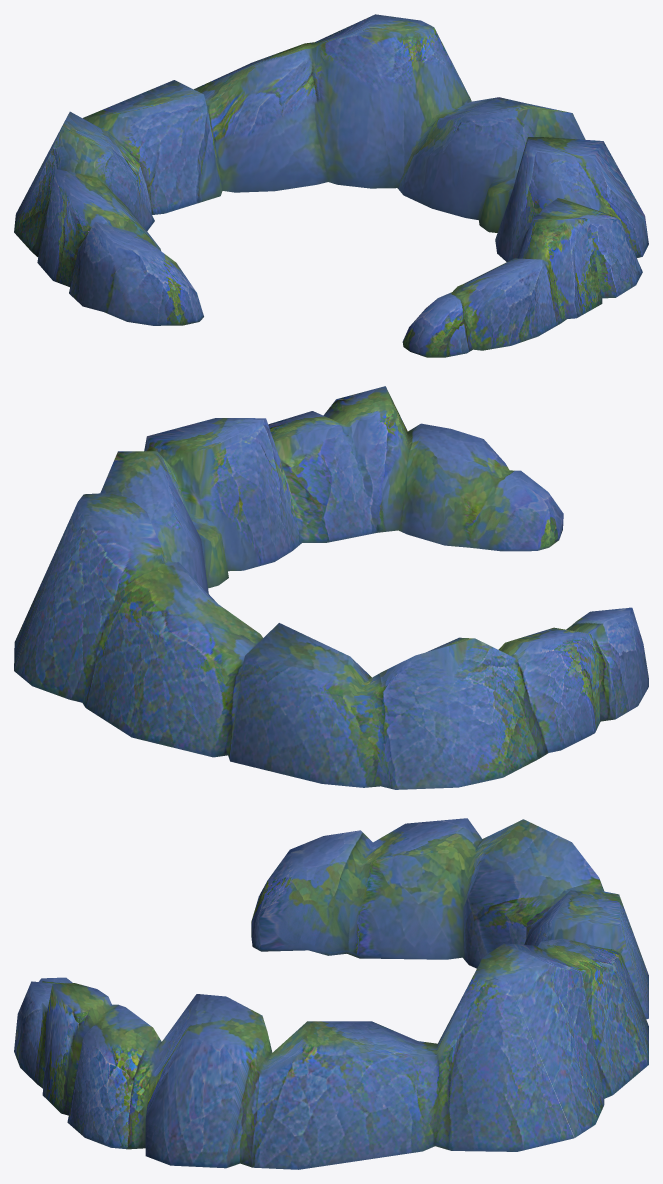
Rendered from rock_ring_mossy.glb.
3 renders of one model, top to bottom at view 1: azimuth 30°, elevation 25°; view 2: azimuth 150°, elevation 25°; view 3: azimuth 270°, elevation 25°, orthographic. The views are drawn at different scales.
Visible parts, largest first — view 1: tripo_node_89ea50b6-dd42-4bf1-af38-ec4dd53a9c59; view 2: tripo_node_89ea50b6-dd42-4bf1-af38-ec4dd53a9c59; view 3: tripo_node_89ea50b6-dd42-4bf1-af38-ec4dd53a9c59.
Boxes of the visible parts, left/top/right/bottom form: tripo_node_89ea50b6-dd42-4bf1-af38-ec4dd53a9c59: left=14, top=14, right=648, bottom=357; tripo_node_89ea50b6-dd42-4bf1-af38-ec4dd53a9c59: left=14, top=386, right=648, bottom=789; tripo_node_89ea50b6-dd42-4bf1-af38-ec4dd53a9c59: left=14, top=818, right=648, bottom=1169.
Bounding box in the file's own units: 0.998 × 0.2676 × 0.998.
Materials: 1 (1 with a texture image).
